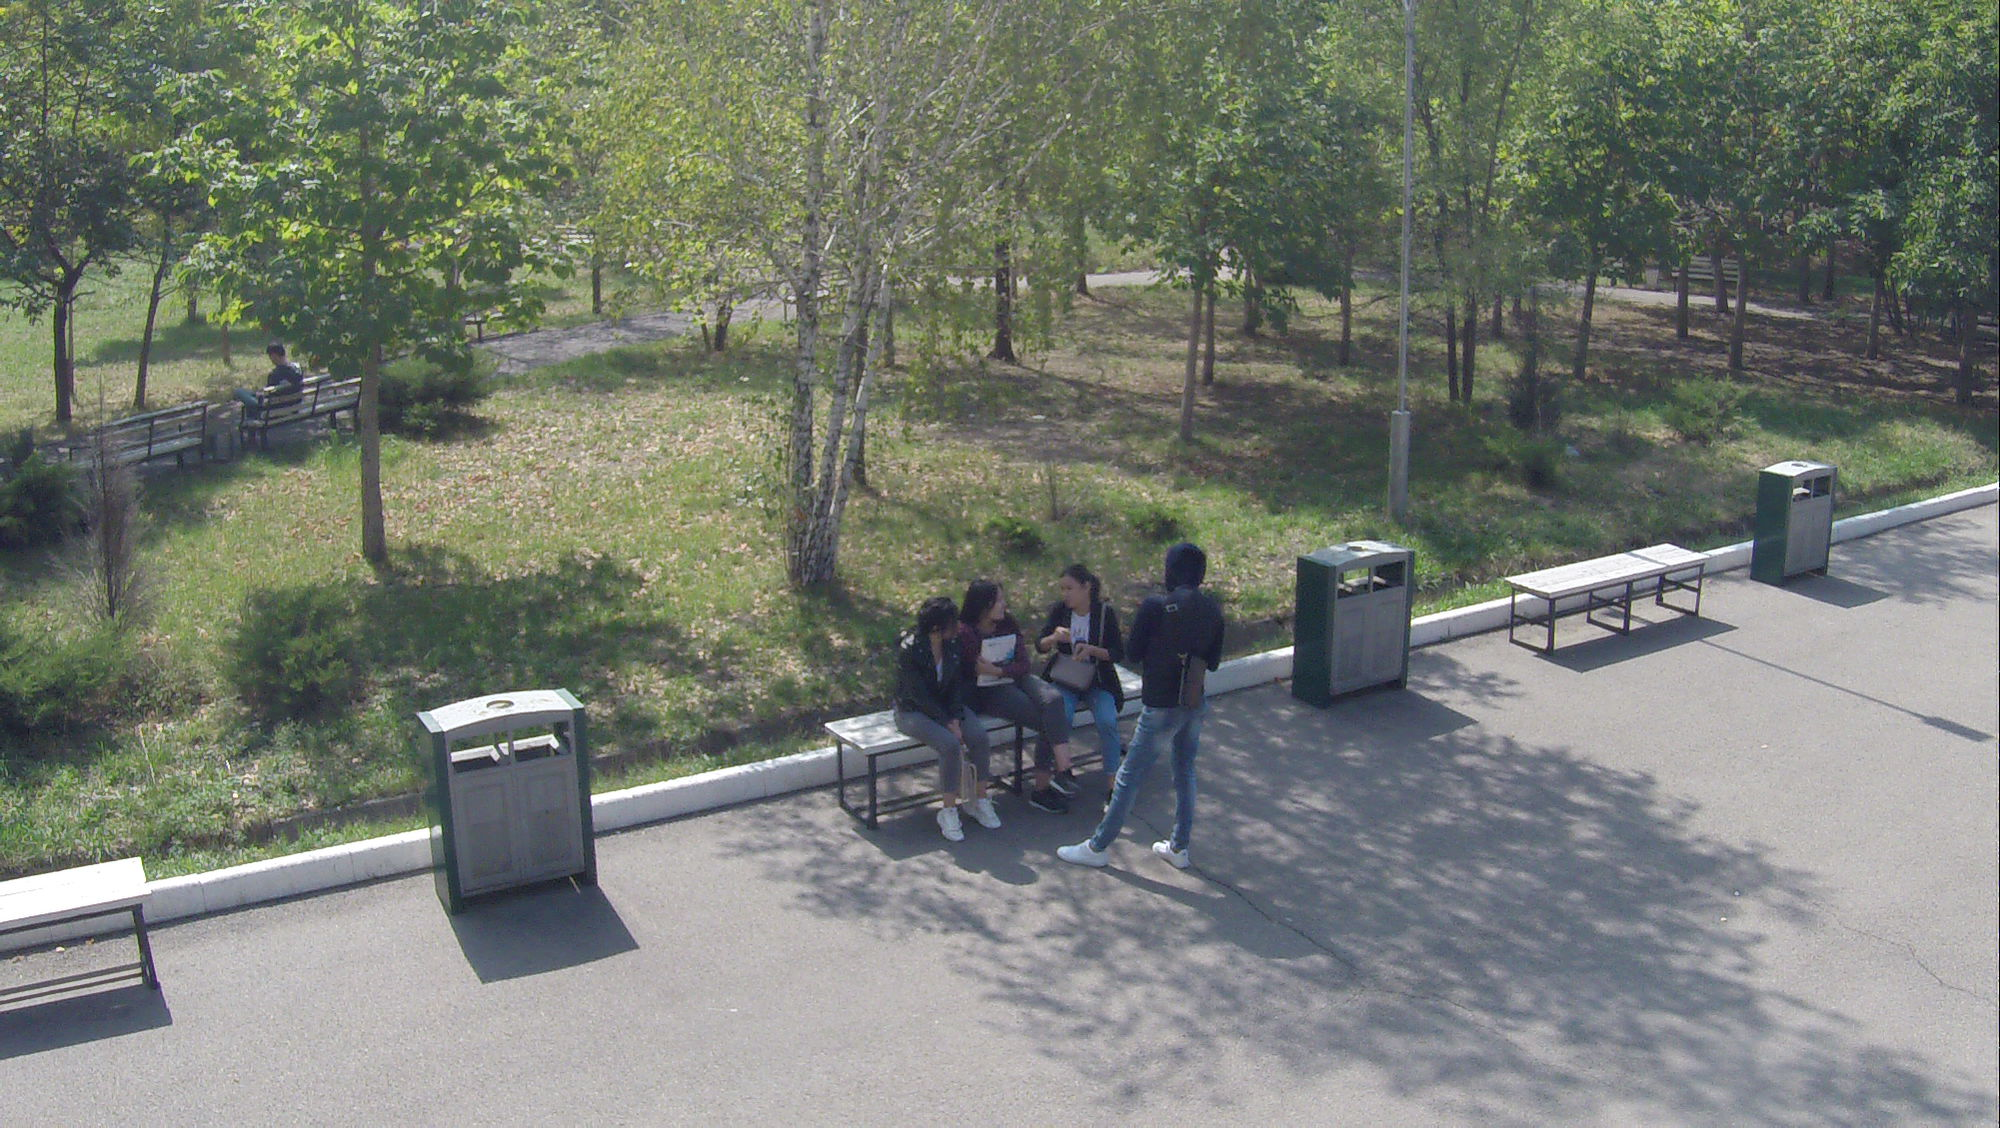person: (1055, 547, 1235, 883), (964, 578, 1068, 828), (901, 599, 1003, 849), (1030, 560, 1120, 826), (224, 330, 305, 435)
